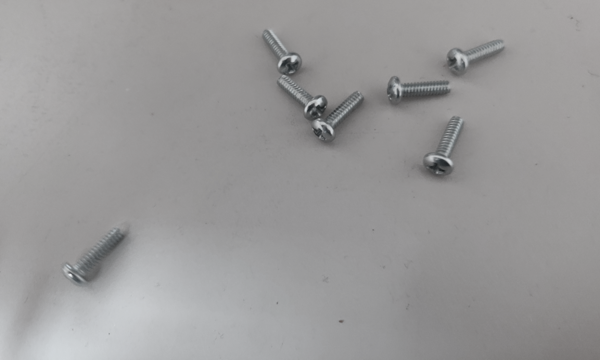shortscrew: (62, 227, 126, 289), (312, 91, 365, 143), (424, 117, 465, 176), (277, 75, 328, 121), (447, 39, 506, 75), (388, 76, 450, 106), (262, 29, 302, 75)
